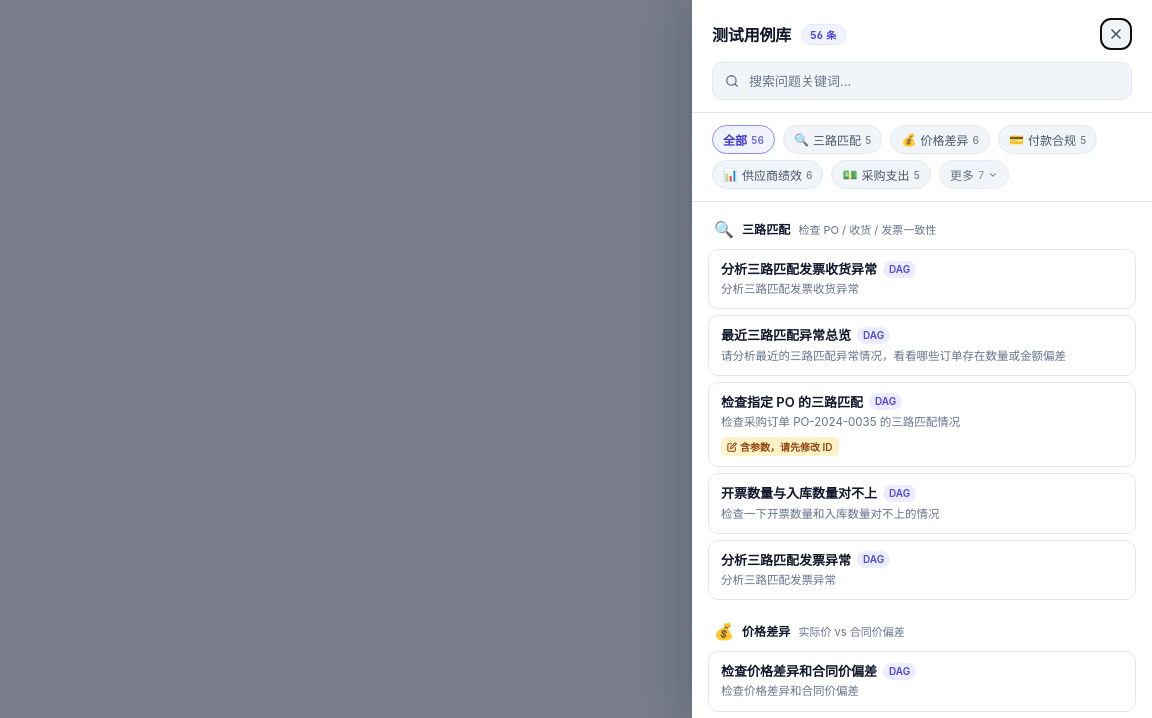
Test: ExamplePromptsDrawer › expands all categories on "更多" click
The image size is (1152, 718).
Click the button "更多 7".
click(974, 174)  # box [939,160,1009,189]
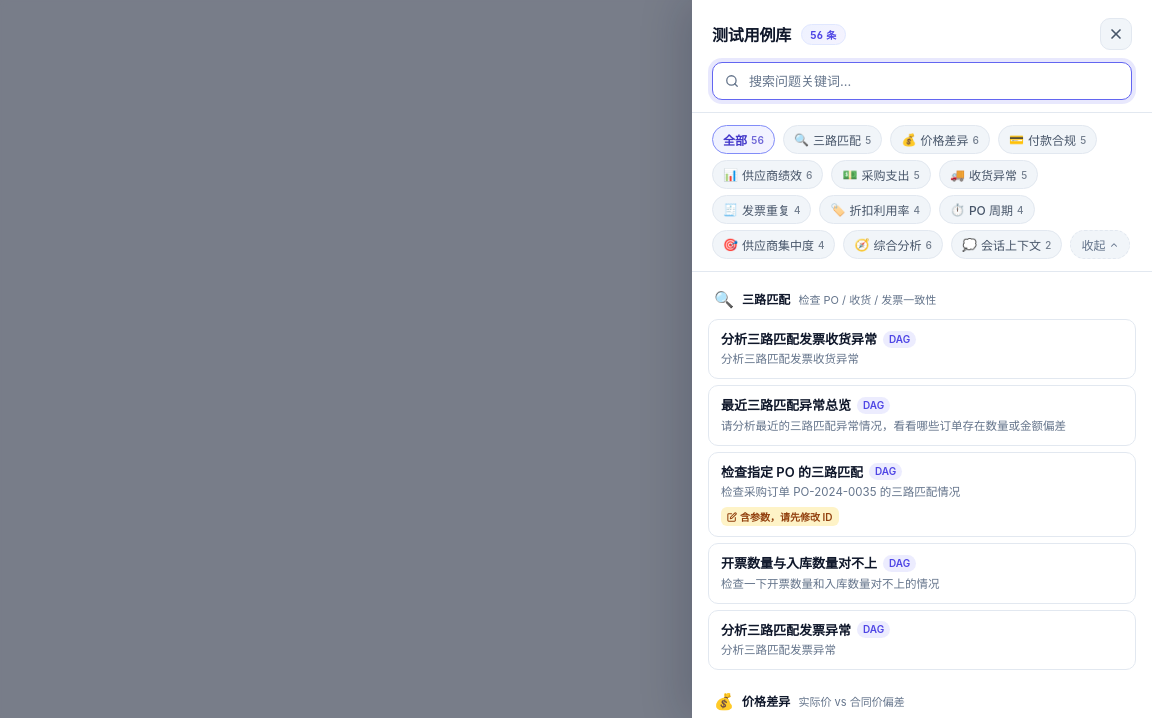
Expected: the button "收起" is shown, [1070,230,1130,259]
